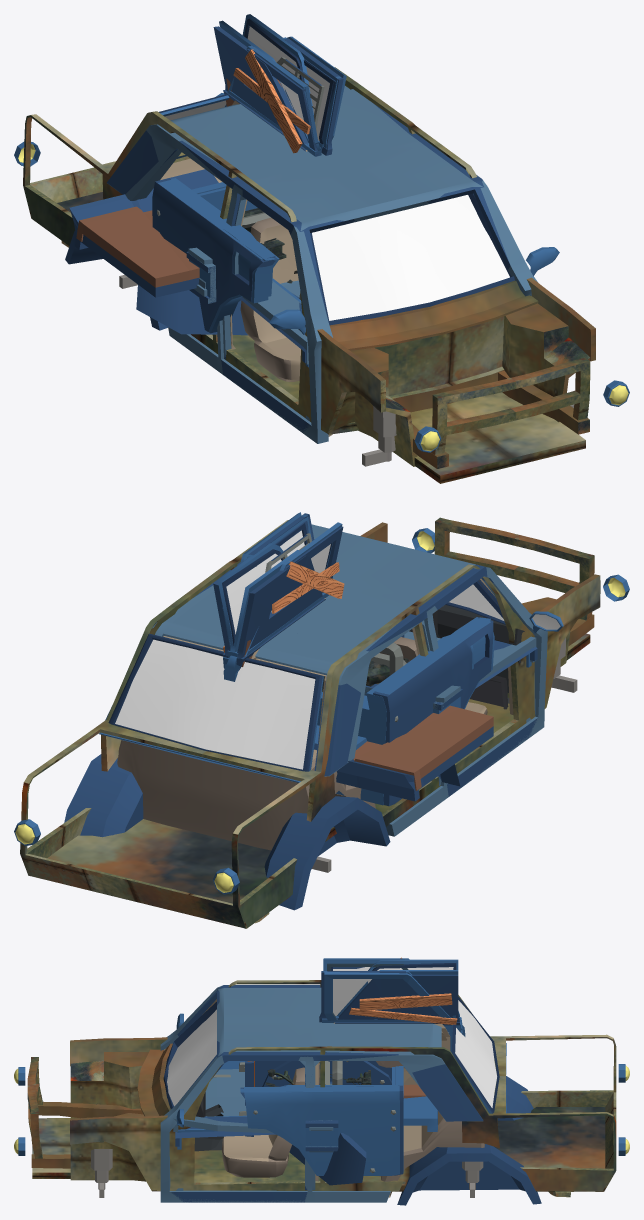
File: car_1_atlas_center_pivot.fbx
3 renders of one model, top to bottom at view 1: azimuth 30°, elevation 25°; view 2: azimuth 150°, elevation 25°; view 3: azimuth 270°, elevation 25°, orthographic. The views are drawn at different scales.
Visible parts, largest first — view 1: frame, krysha, nesnimaemoe, bagazh (×2), krisha, t3_zad, salon2, bokovi_zad (×2), t3_bamper, front_door_t3_4, back_door_t2, f_right_door (+5 smaller); view 2: frame, nesnimaemoe, krysha, salon2, bagazh (×2), t3_zad, krisha, bokovi_zad (×2), front_door_t3_4, f_right_door, back_door_t2, b_left_door (+6 smaller); view 3: frame, krysha, nesnimaemoe, bokovi_zad (×2), salon2, krisha, front_door_t3_3, bagazh_pered, t3_bamper, front_door_t1, back_door_t1, pokrishka_l (+13 smaller).
Part boxes in pixels (x1=…): frame: x1=23, y1=67, x2=595, y2=483; krysha: x1=107, y1=86, x2=537, y2=443; nesnimaemoe: x1=14, y1=93, x2=629, y2=466; bagazh (×2): x1=69, y1=169, x2=218, y2=297; krisha: x1=107, y1=103, x2=510, y2=432; t3_zad: x1=152, y1=178, x2=276, y2=331; salon2: x1=160, y1=158, x2=332, y2=436; bokovi_zad (×2): x1=158, y1=178, x2=279, y2=333; t3_bamper: x1=136, y1=200, x2=270, y2=335; front_door_t3_4: x1=213, y1=26, x2=308, y2=151; back_door_t2: x1=233, y1=47, x2=320, y2=153; f_right_door: x1=242, y1=14, x2=313, y2=114; frame: x1=20, y1=517, x2=600, y2=928; nesnimaemoe: x1=14, y1=528, x2=629, y2=910; krysha: x1=152, y1=524, x2=547, y2=836; salon2: x1=117, y1=578, x2=524, y2=850; bagazh (×2): x1=314, y1=705, x2=493, y2=801; t3_zad: x1=174, y1=617, x2=493, y2=806; krisha: x1=105, y1=562, x2=536, y2=796; bokovi_zad (×2): x1=176, y1=617, x2=494, y2=805; front_door_t3_4: x1=236, y1=555, x2=325, y2=670; f_right_door: x1=217, y1=543, x2=283, y2=670; back_door_t2: x1=223, y1=522, x2=344, y2=674; b_left_door: x1=226, y1=523, x2=342, y2=681; frame: x1=27, y1=980, x2=616, y2=1197; krysha: x1=160, y1=986, x2=482, y2=1202; nesnimaemoe: x1=14, y1=996, x2=629, y2=1205; bokovi_zad (×2): x1=240, y1=1066, x2=403, y2=1175; salon2: x1=164, y1=999, x2=484, y2=1197; krisha: x1=171, y1=985, x2=483, y2=1202; front_door_t3_3: x1=335, y1=974, x2=459, y2=1025; bagazh_pered: x1=173, y1=1069, x2=272, y2=1133; t3_bamper: x1=289, y1=1061, x2=366, y2=1185; front_door_t1: x1=349, y1=993, x2=460, y2=1040; back_door_t1: x1=324, y1=972, x2=461, y2=1032; pokrishka_l: x1=262, y1=1061, x2=391, y2=1086.
Size of the model in its own units: 168 by 129 by 355.
